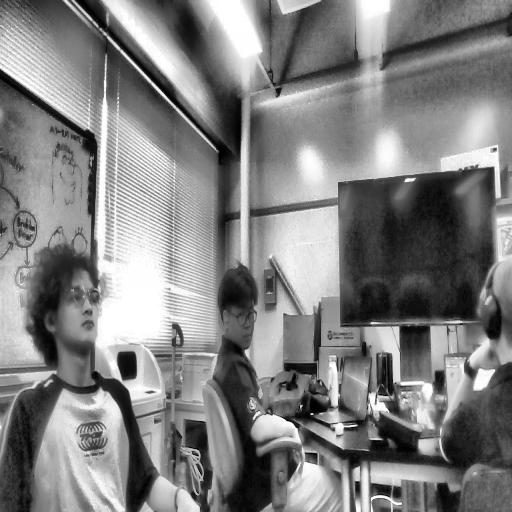Daifuku: (25, 245, 107, 364)
Not Daifuku: (480, 250, 512, 365), (218, 268, 260, 352)
